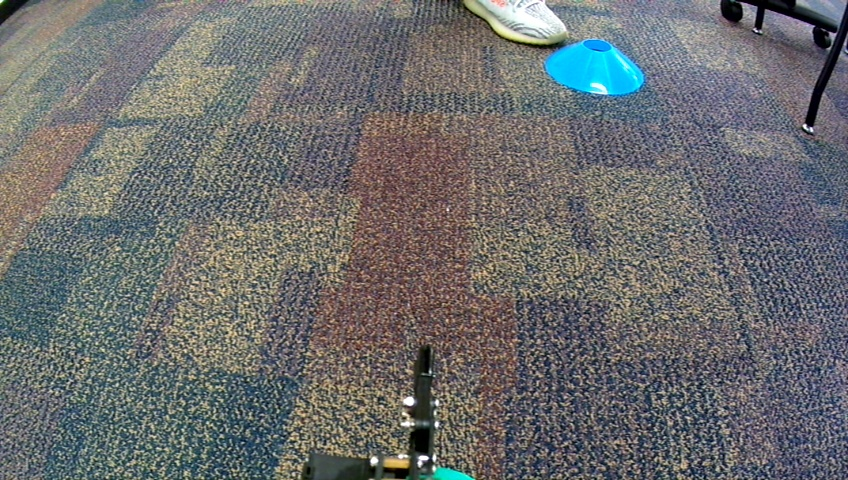cone: (545, 38, 645, 98)
